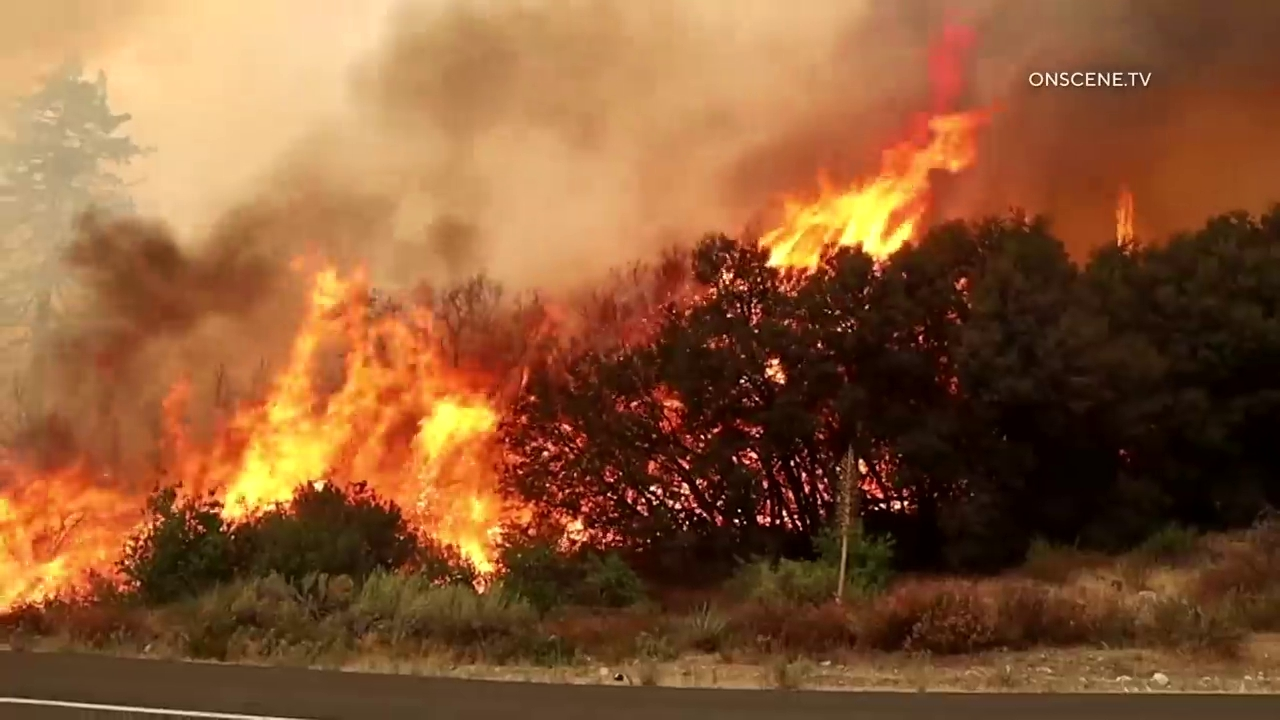forest_fire: (159, 268, 509, 569), (757, 111, 984, 273), (0, 464, 148, 609), (1114, 188, 1133, 245)
